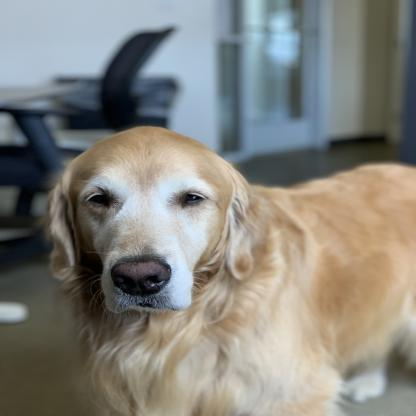Labarador Retriever: (51, 127, 416, 416)
